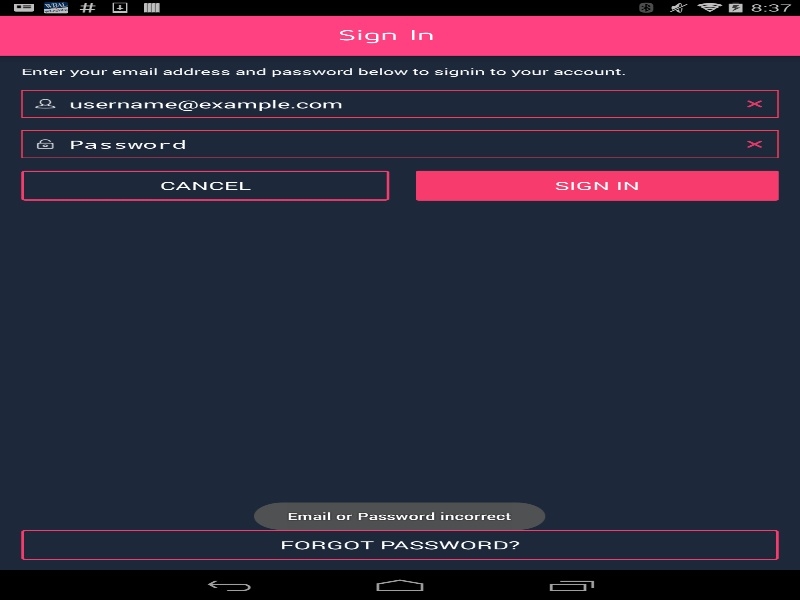Button: (21, 530, 778, 560), (21, 170, 389, 200), (416, 170, 778, 200)
Input: (21, 130, 778, 158), (21, 90, 778, 117)
